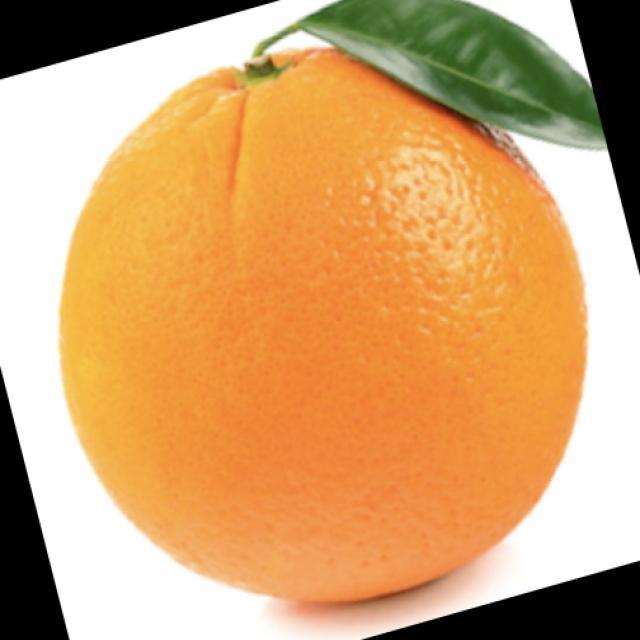matang: (60, 48, 586, 601)
